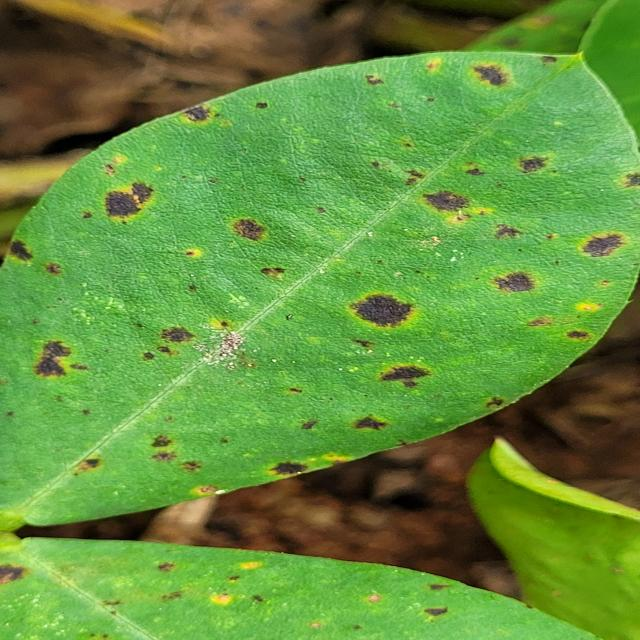Ground nut_tikka leaf spot: (0, 43, 640, 523)
